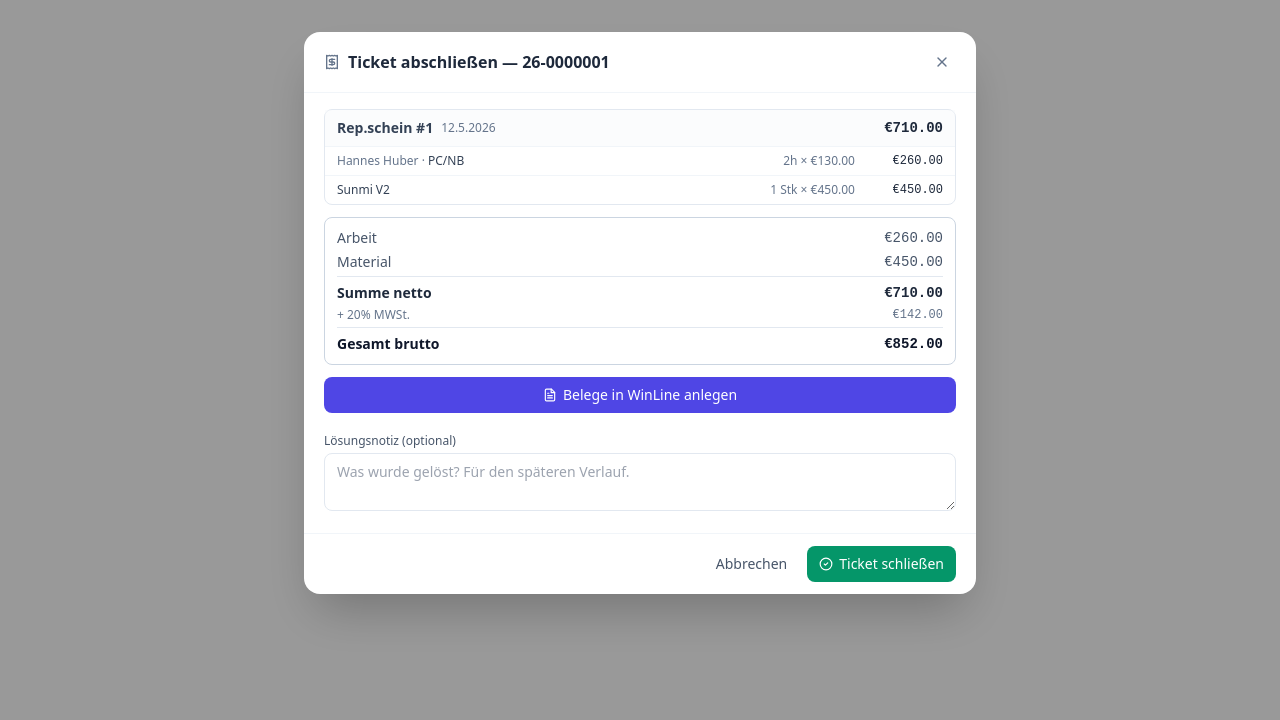
Test: TicketBillingPreview › shows delivery-note Beleg-Keys in the result
Check: the element with test id "billing-summary" is shown, box x1=324 y1=109 x2=956 y2=365
Click the button with test id "create-belege" at [640, 395], box x1=324 y1=377 x2=956 y2=413
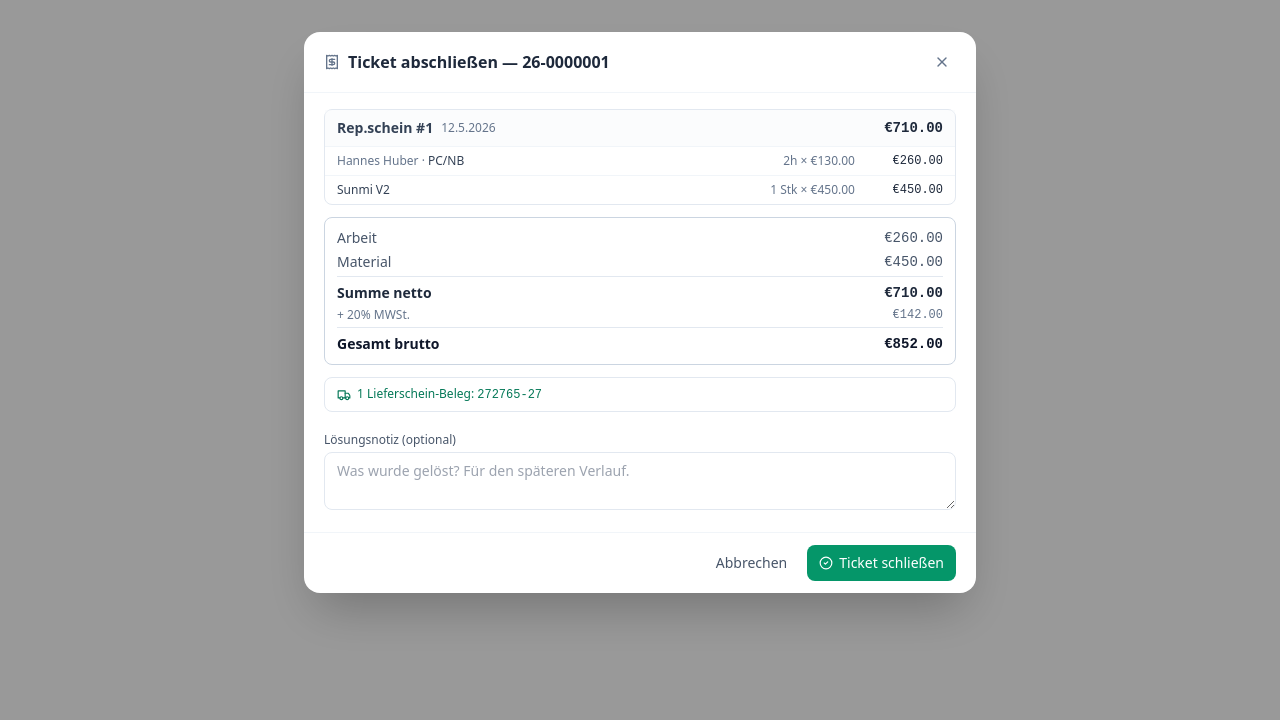
Check: the element with test id "beleg-export-result" is shown, box x1=324 y1=377 x2=956 y2=412
Check: the text "1 Lieferschein-Beleg: 272765-27" is shown, box x1=357 y1=386 x2=542 y2=403
Check: the text "272765-27" is shown, box x1=477 y1=388 x2=542 y2=402
